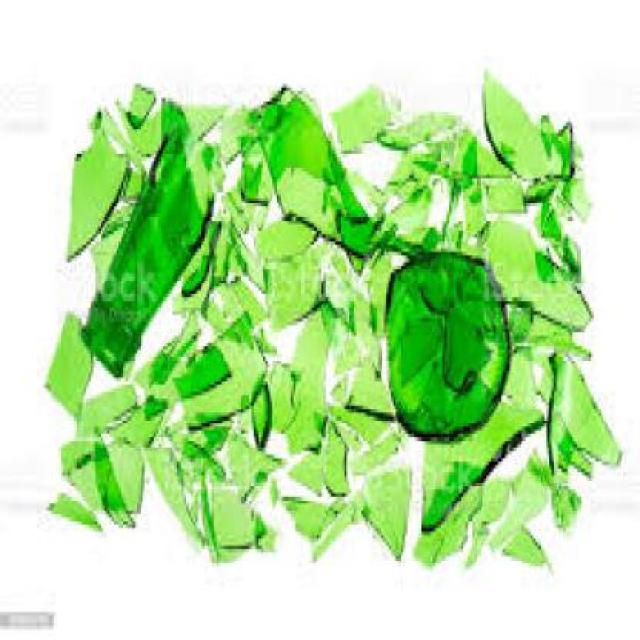kaca: (80, 126, 205, 368), (380, 250, 509, 438), (248, 77, 380, 238), (412, 396, 540, 542), (484, 217, 590, 329), (471, 66, 566, 179), (60, 115, 131, 248), (546, 350, 622, 472), (174, 305, 263, 409), (277, 157, 371, 252), (278, 297, 336, 445), (137, 428, 209, 543), (163, 423, 226, 546), (57, 434, 143, 506), (486, 448, 549, 546), (408, 479, 480, 563), (41, 300, 94, 409), (355, 462, 408, 560), (431, 297, 489, 385), (260, 252, 322, 330), (86, 423, 132, 525), (328, 84, 395, 154), (500, 301, 586, 354), (136, 316, 198, 384), (83, 91, 135, 171), (96, 388, 164, 448), (96, 158, 146, 236), (318, 256, 371, 324), (340, 351, 394, 417), (74, 381, 140, 434), (204, 472, 253, 542), (200, 277, 262, 332), (398, 308, 440, 388), (372, 109, 457, 148), (500, 340, 545, 412), (534, 108, 572, 189), (226, 434, 277, 492), (177, 211, 221, 277), (163, 88, 217, 140), (280, 494, 343, 538), (318, 403, 389, 442), (172, 346, 232, 392), (231, 151, 274, 214), (455, 472, 508, 522), (377, 178, 423, 234), (449, 164, 486, 233), (209, 105, 257, 157), (309, 497, 354, 552), (317, 423, 349, 500), (266, 349, 299, 423), (477, 171, 528, 217), (549, 420, 591, 475), (249, 217, 305, 258), (191, 475, 218, 560), (463, 126, 508, 176), (89, 224, 123, 290), (368, 242, 395, 324), (549, 161, 589, 214), (534, 245, 583, 288), (117, 81, 154, 134), (344, 426, 398, 462), (194, 137, 228, 192), (500, 522, 549, 560), (50, 491, 99, 529), (438, 132, 477, 178), (389, 143, 428, 186), (345, 162, 383, 206), (286, 445, 322, 489), (531, 200, 563, 245), (412, 266, 451, 300), (243, 385, 266, 440), (332, 329, 363, 368), (552, 476, 577, 522), (250, 508, 272, 557), (442, 214, 468, 255), (222, 182, 244, 230), (385, 157, 417, 189), (522, 165, 558, 192), (362, 324, 384, 368), (200, 415, 228, 448), (140, 94, 155, 151), (251, 326, 272, 360), (550, 231, 576, 258), (431, 126, 451, 160), (463, 524, 482, 556), (248, 203, 266, 234), (137, 388, 163, 409), (566, 129, 582, 162), (331, 371, 346, 402), (415, 228, 434, 248), (417, 140, 431, 165), (268, 480, 277, 500)
